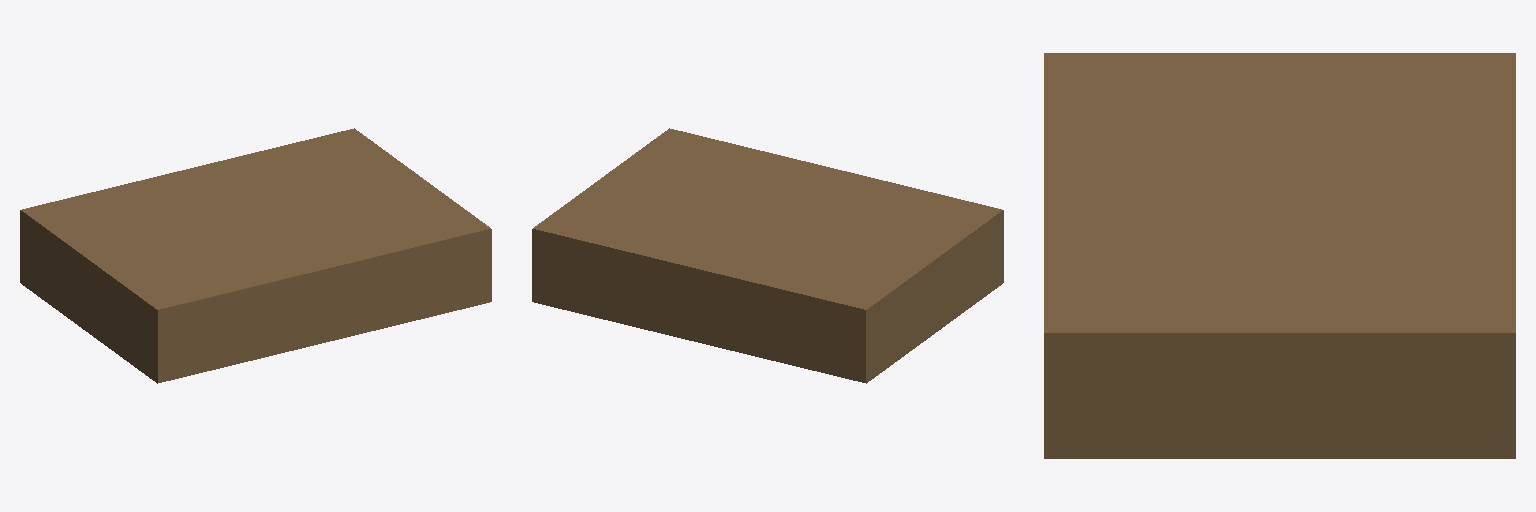
URDF robot description (mission_support):
<robot name="mission_support">
<link name="mission_support">
    <inertial>
        <mass value="1.0"/>
        <inertia ixx="0.006608333333" ixy="0.0" ixz="0.0" iyy="0.01256666667" iyz="0.0" izz="0.01810833333"/>
    </inertial>
    <visual>
        <origin xyz="0.0 0.0 0.0" rpy="0.0 0.0 0.0"/>
        <geometry>
            <mesh filename="package://other_meshes/mission_approach/mission_support.obj"/>
        </geometry>
        <material name="mission_support_color">
            <color rgba="0.55 0.45 0.32 1.0"/>
        </material>
    </visual>
    <collision>
        <geometry>
            <mesh filename="/home/docker/data/src/ur10e_simulator/other_meshes/mission_approach/meshes/fixed_urdf/collision/mission_support.obj"/>
        </geometry>
    </collision>
    <contact>
        <lateral_friction value="1.0"/>
    </contact>
</link>
</robot>

--- Facts derived from the render (not from the file) ---
3 views of the same robot in one strip: view 1: azimuth 30°, elevation 25°; view 2: azimuth 150°, elevation 25°; view 3: azimuth 270°, elevation 25° (orthographic).
Robot: mission_support — 1 links, 0 joints (none); root link mission_support; default pose: every joint at zero.
Visible links, largest first — view 1: mission_support; view 2: mission_support; view 3: mission_support.
Link boxes in pixels (x1,y1,x2,y2): mission_support: (20,128,491,383); mission_support: (532,128,1003,383); mission_support: (1044,53,1515,458).
Bounding box of the posed robot: 0.38 × 0.27 × 0.08 m (x, y, z).
Meshes: 1 distinct files referenced, 1 mesh visuals loaded (1 OBJ).
